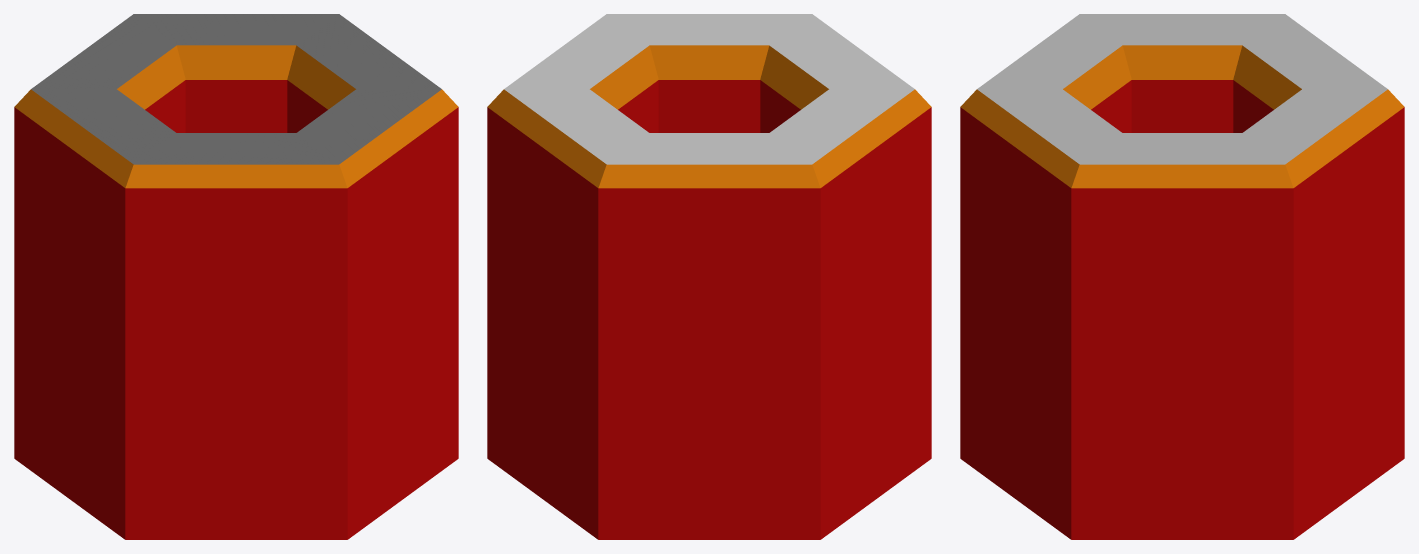
The picture shows the model from 3 angles, left to right: view 1: azimuth 30°, elevation 25°; view 2: azimuth 150°, elevation 25°; view 3: azimuth 270°, elevation 25°; orthographic projection.
Visible parts, largest first — view 1: Joint_0_Object_1, Joint_0_Object_0; view 2: Joint_0_Object_1, Joint_0_Object_0; view 3: Joint_0_Object_1, Joint_0_Object_0.
Part boxes in pixels (x1,y1,x2,y2): Joint_0_Object_1: (14,45,458,539); Joint_0_Object_0: (31,14,441,164); Joint_0_Object_1: (487,45,931,539); Joint_0_Object_0: (504,14,914,164); Joint_0_Object_1: (960,45,1404,539); Joint_0_Object_0: (977,14,1387,164).
Size of the model in its own units: 133 by 140 by 153.
